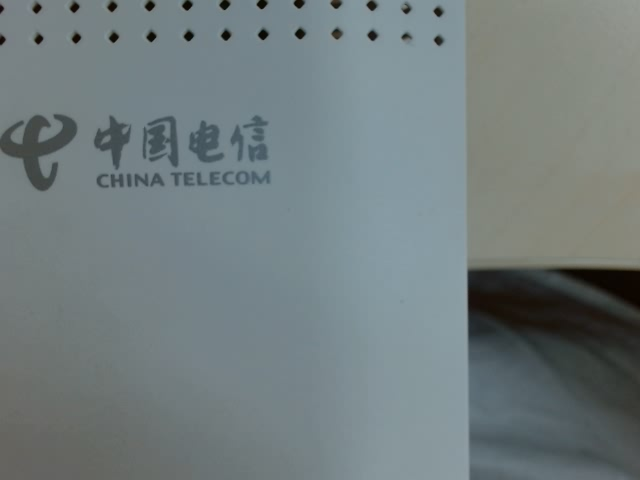AB_ChinaTelecom: (2, 103, 279, 195)
